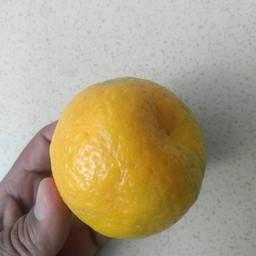Good_orange: (47, 74, 211, 242)
